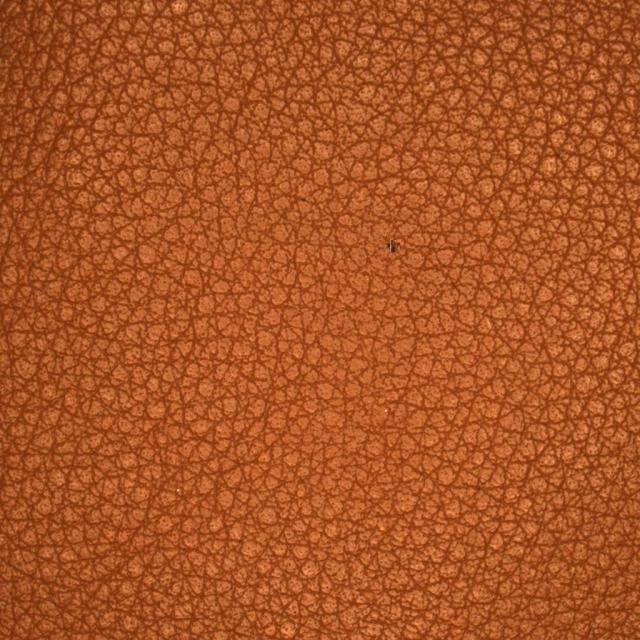Hole: (338, 152, 443, 342)
